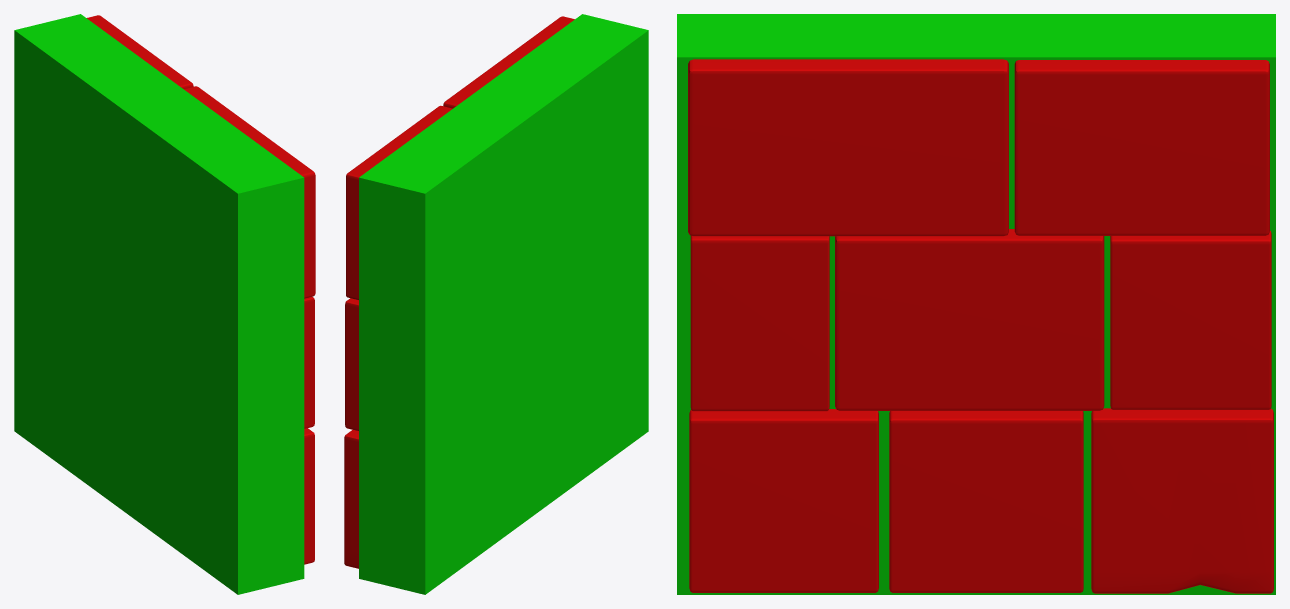
File: BrickTile1.fbx
3 views of the same model, side by side, from view 1: azimuth 30°, elevation 25°; view 2: azimuth 150°, elevation 25°; view 3: azimuth 270°, elevation 25° (orthographic). The views are drawn at different scales.
Parts seen in each view (by area): view 1: polySurface1; view 2: polySurface1; view 3: polySurface1.
Boxes of the visible parts, x1,y1,x2,y2 form: polySurface1: [14, 14, 315, 594]; polySurface1: [344, 14, 648, 594]; polySurface1: [677, 14, 1275, 594].
Bounding box in the file's own units: 0.4326 × 2 × 2.02.
